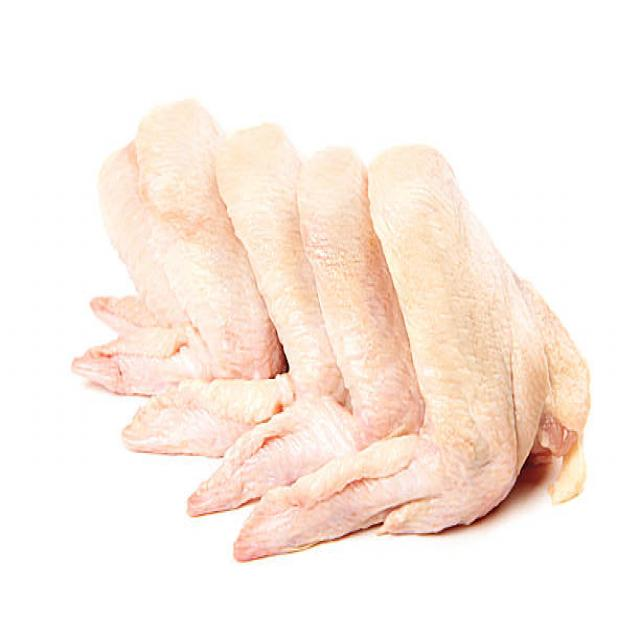Chicken: (253, 134, 592, 542)
